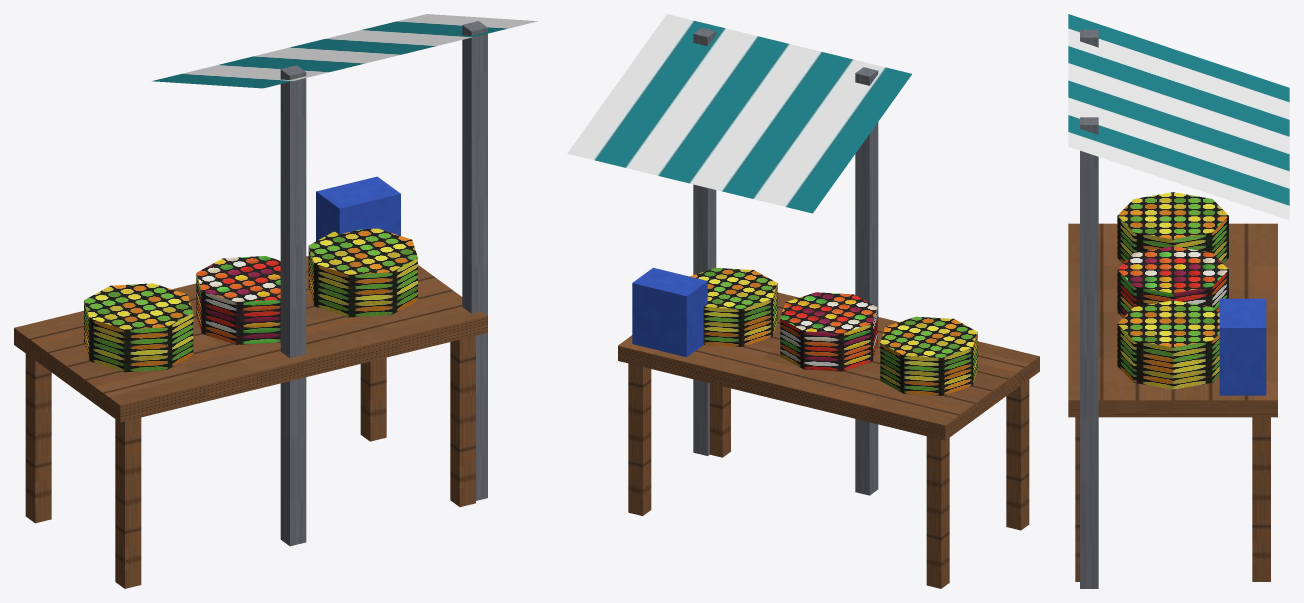
The model's file is table-cream.glb.
The picture shows the model from 3 angles, left to right: view 1: azimuth 30°, elevation 25°; view 2: azimuth 150°, elevation 25°; view 3: azimuth 270°, elevation 25°; orthographic projection. The views are drawn at different scales.
Visible parts, largest first — view 1: table-cream; view 2: table-cream; view 3: table-cream.
Boxes of the visible parts, x1=… form: table-cream: x1=14, y1=14, x2=537, y2=588; table-cream: x1=567, y1=14, x2=1039, y2=588; table-cream: x1=1068, y1=14, x2=1289, y2=588.
Bounding box in the file's own units: 2.05 × 2.2 × 0.9499.
1 material, 1 textured.
